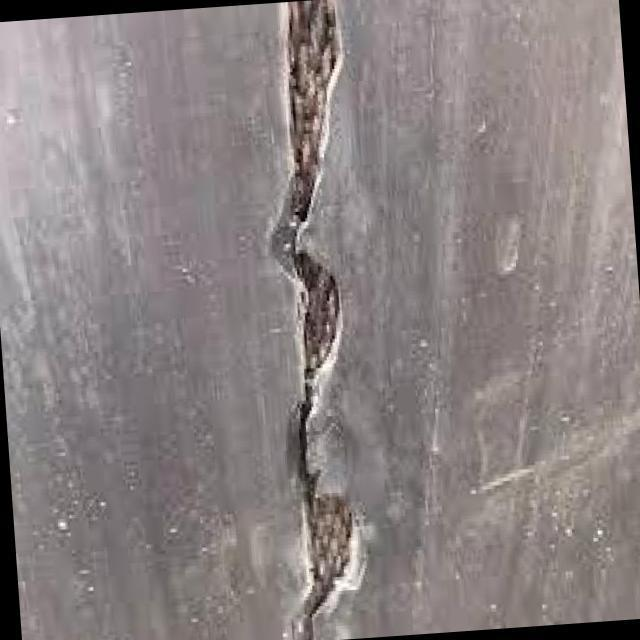Tear: (266, 0, 366, 640)
